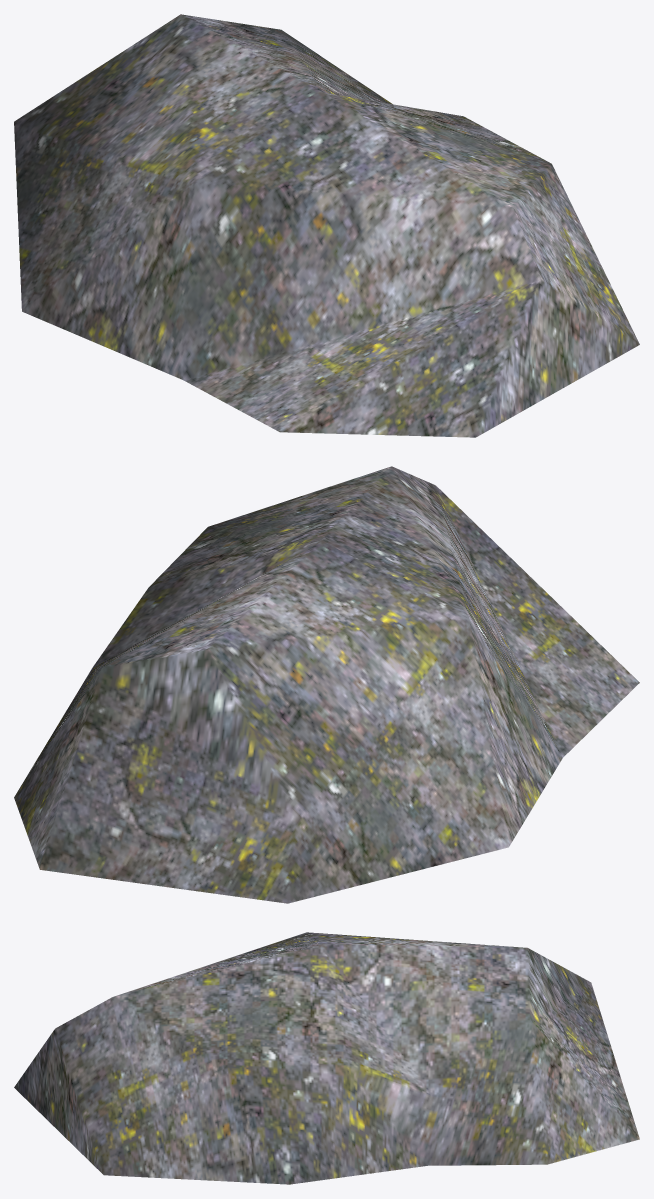
The model's file is rock_weatheredmossy_large_a2_l1.fbx.
3 views of the same model, one above another, from view 1: azimuth 30°, elevation 25°; view 2: azimuth 150°, elevation 25°; view 3: azimuth 270°, elevation 25° (orthographic). The views are drawn at different scales.
Parts seen in each view (by area): view 1: mesh_node; view 2: mesh_node; view 3: mesh_node.
Boxes of the visible parts, <box> form: mesh_node: <box>14,14,639,437</box>; mesh_node: <box>14,466,639,903</box>; mesh_node: <box>14,932,639,1184</box>.
Size of the model in its own units: 0.7668 by 0.3244 by 1.11.
1 material, 1 textured.
